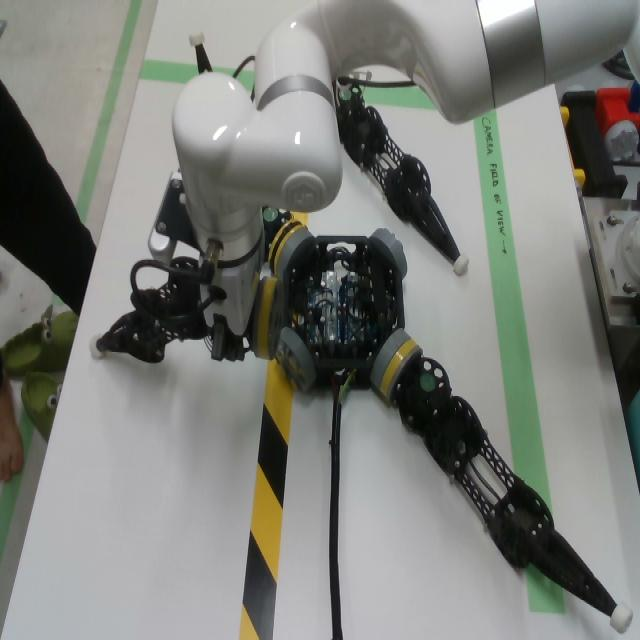body: (283, 236, 404, 385)
body_connector: (275, 327, 318, 393), (370, 328, 411, 389), (276, 227, 315, 281), (369, 228, 408, 280)
gripper: (200, 229, 269, 363)
leg: (380, 340, 634, 635), (336, 77, 469, 276), (88, 257, 208, 364), (263, 207, 306, 276), (189, 31, 213, 75)
leg_connector: (249, 277, 283, 360), (379, 340, 423, 401), (268, 221, 305, 276)
leg_marker: (420, 375, 435, 389), (263, 207, 278, 221), (340, 84, 351, 101)
